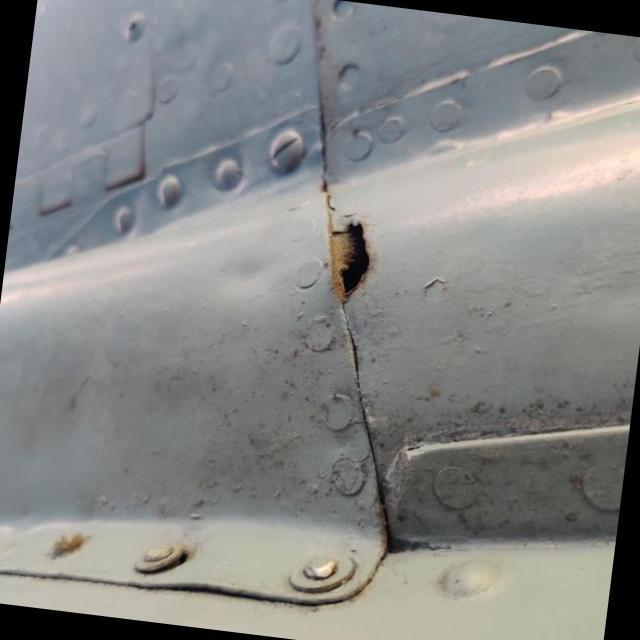Rupture: (299, 198, 398, 328)
